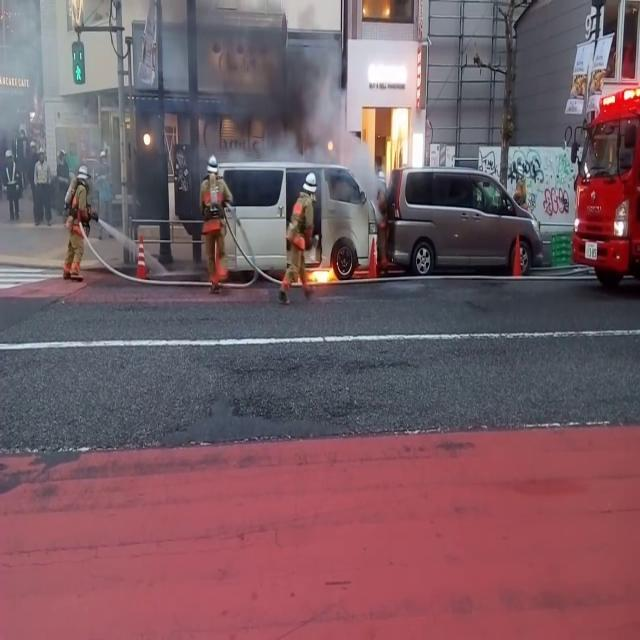Fire: (380, 92, 414, 178), (302, 257, 340, 291)
Smoke: (155, 0, 351, 164)
